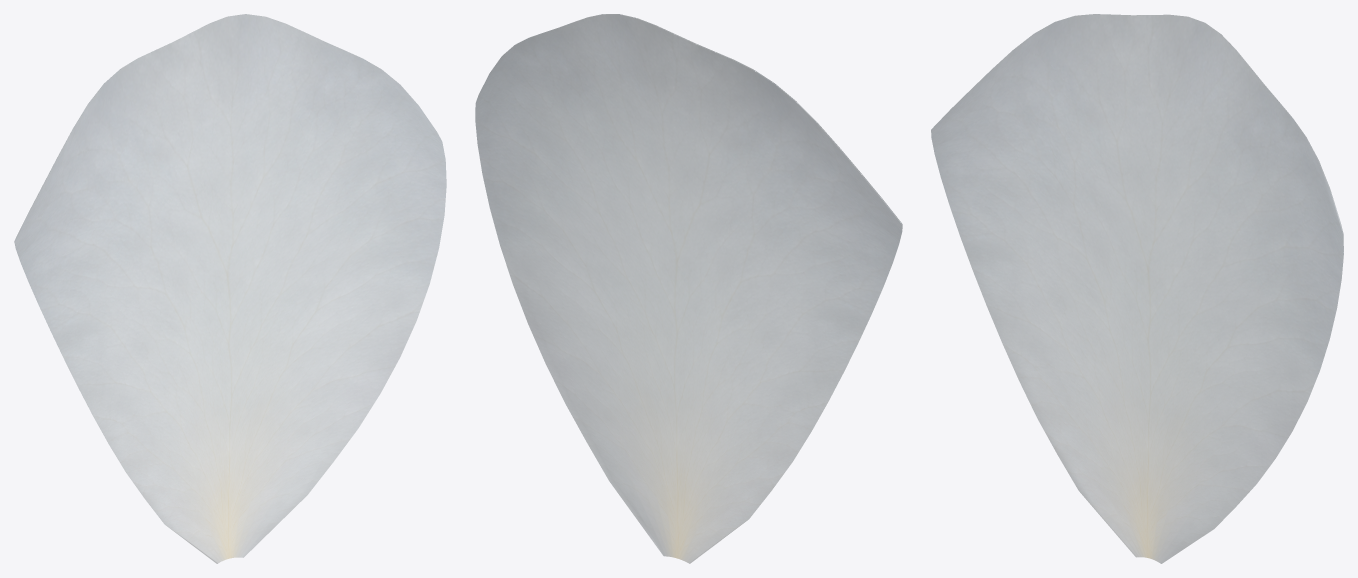
Rendered from outer_01.glb.
3 renders of one model, left to right at view 1: azimuth 30°, elevation 25°; view 2: azimuth 150°, elevation 25°; view 3: azimuth 330°, elevation 25°, orthographic. The views are drawn at different scales.
Visible parts, largest first — view 1: outer_01; view 2: outer_01; view 3: outer_01.
Part boxes in pixels (x1=…): outer_01: x1=14, y1=14, x2=446, y2=563; outer_01: x1=475, y1=14, x2=902, y2=563; outer_01: x1=931, y1=14, x2=1343, y2=563.
Bounding box in the file's own units: 0.079 × 0.0948 × 0.012.
Materials: 1 (1 with a texture image).
